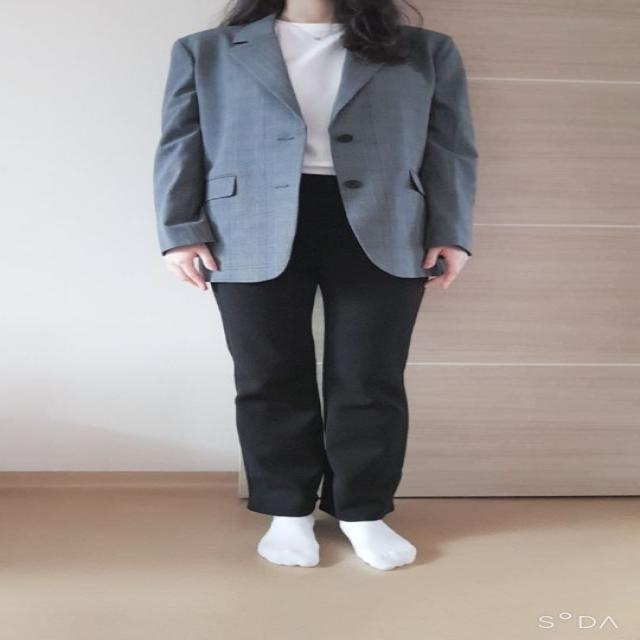blazer: (152, 13, 483, 284)
denimpants: (202, 167, 428, 520)
